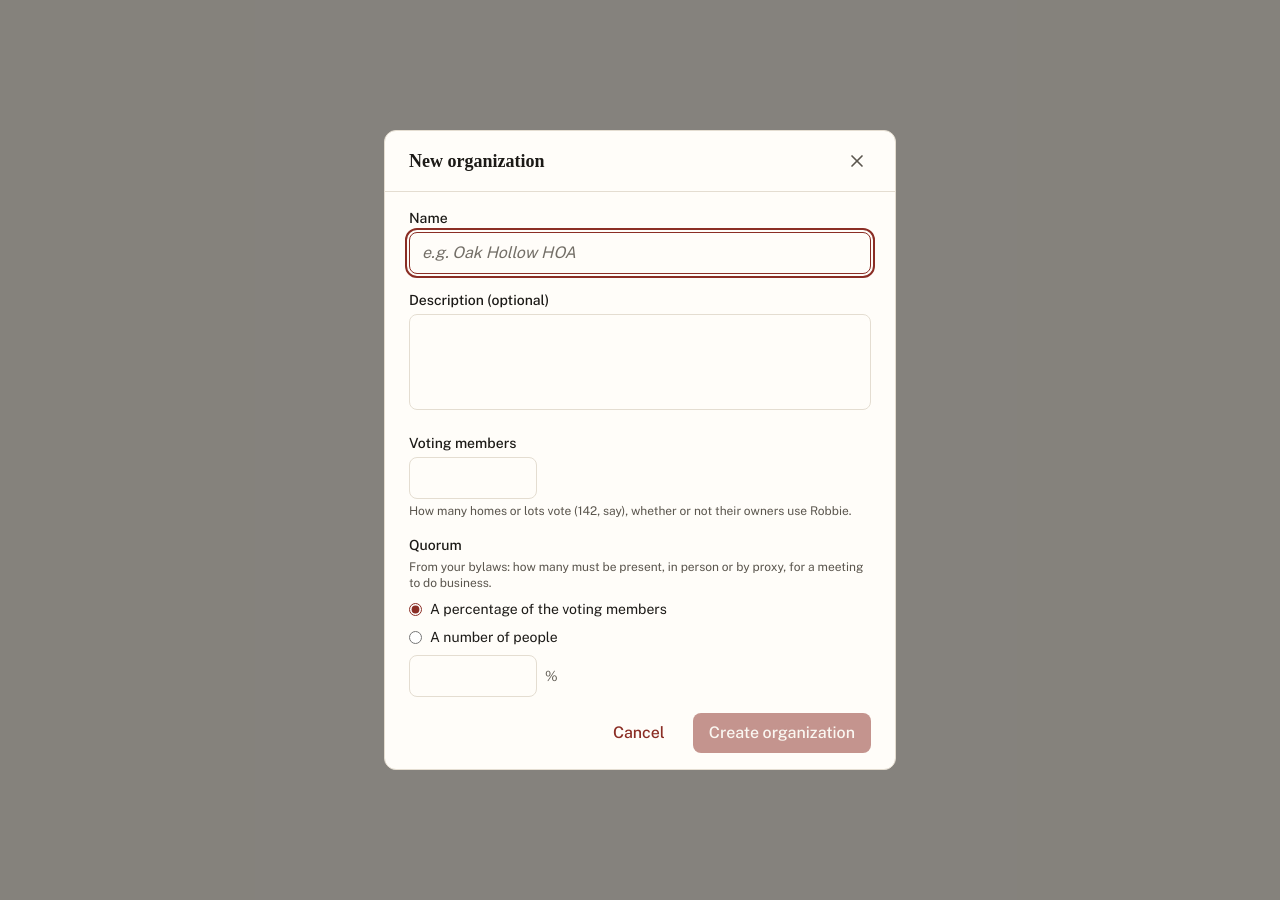
NewOrganizationModal › says in words when the name is already taken
Type "Maple Grove HOA" into the field labelled "Name" at (640, 253), box [409,232,871,274]
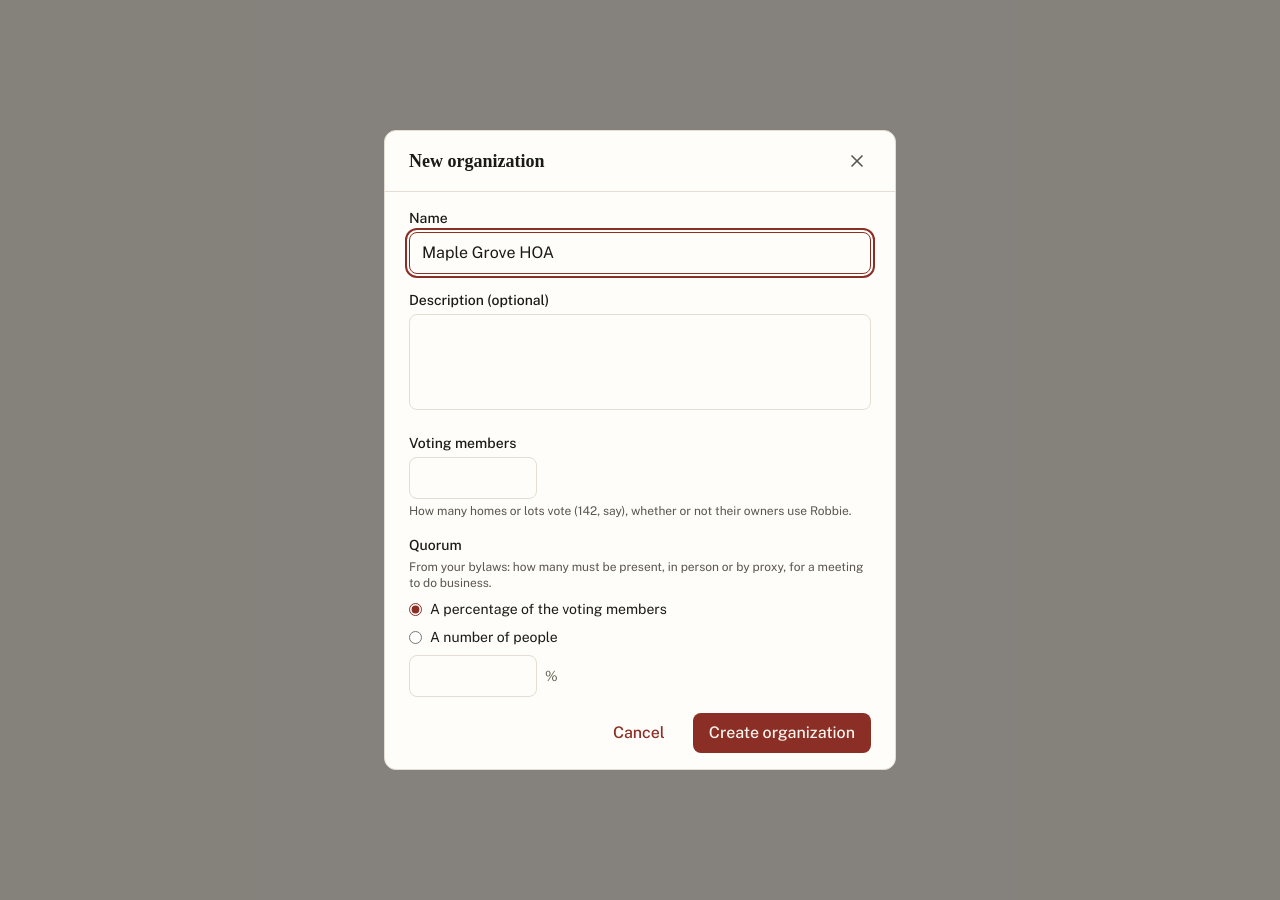
Type "40" into the field labelled "Voting members" at (473, 478), box [409,457,537,499]
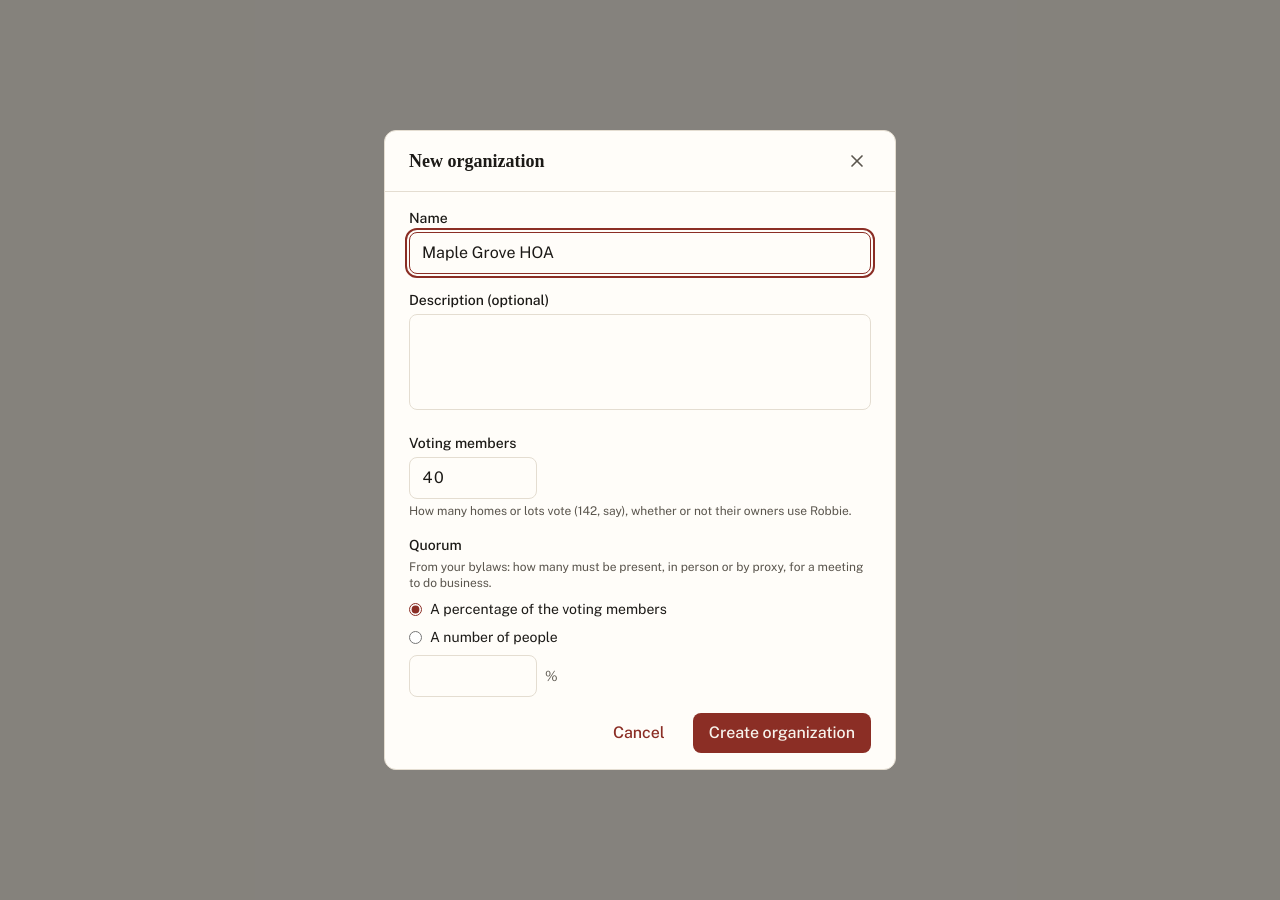
Type "25" into the field named "Quorum percentage" at (473, 676), box [409,655,537,697]
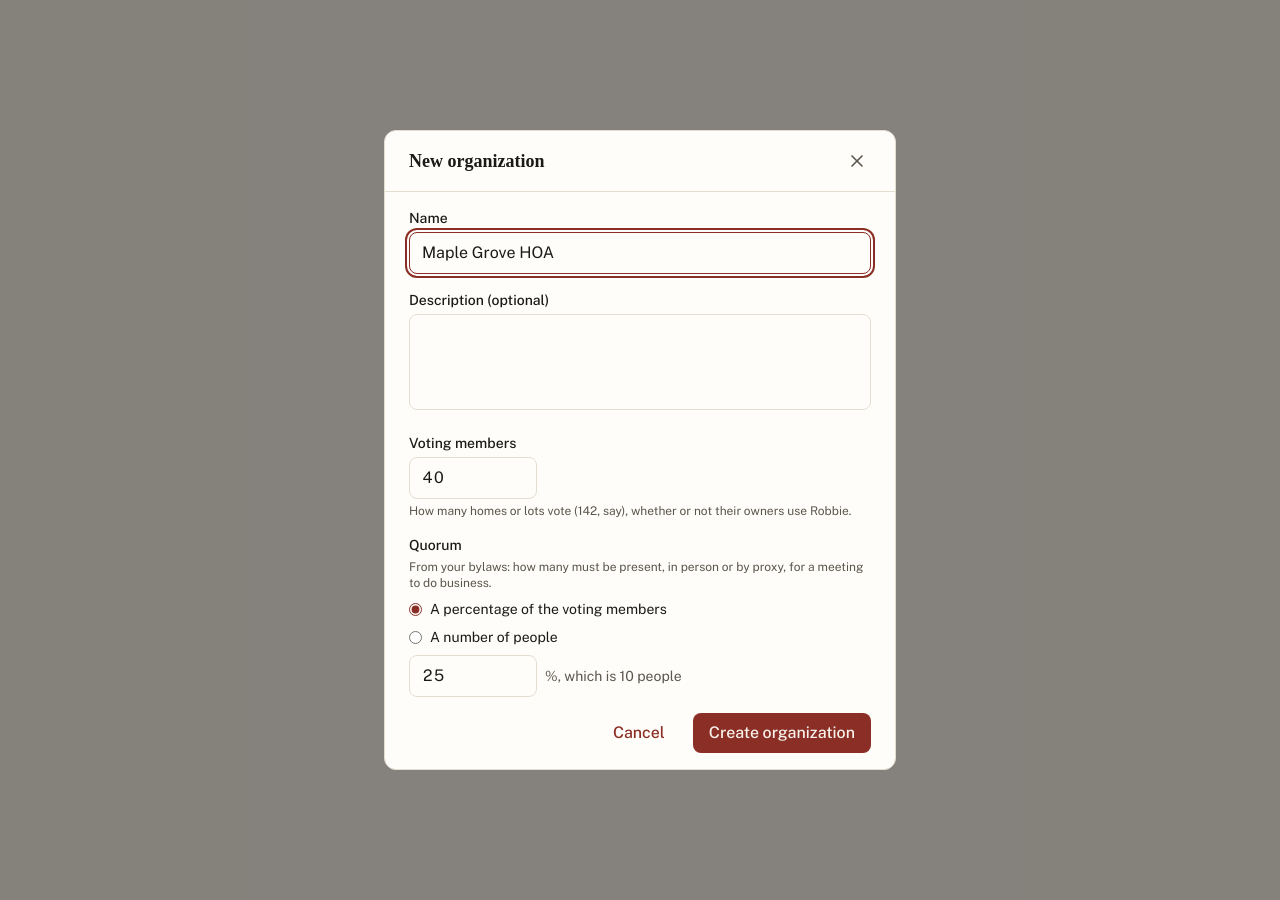
Click the button "Create organization" at (782, 733), box [693,713,871,753]
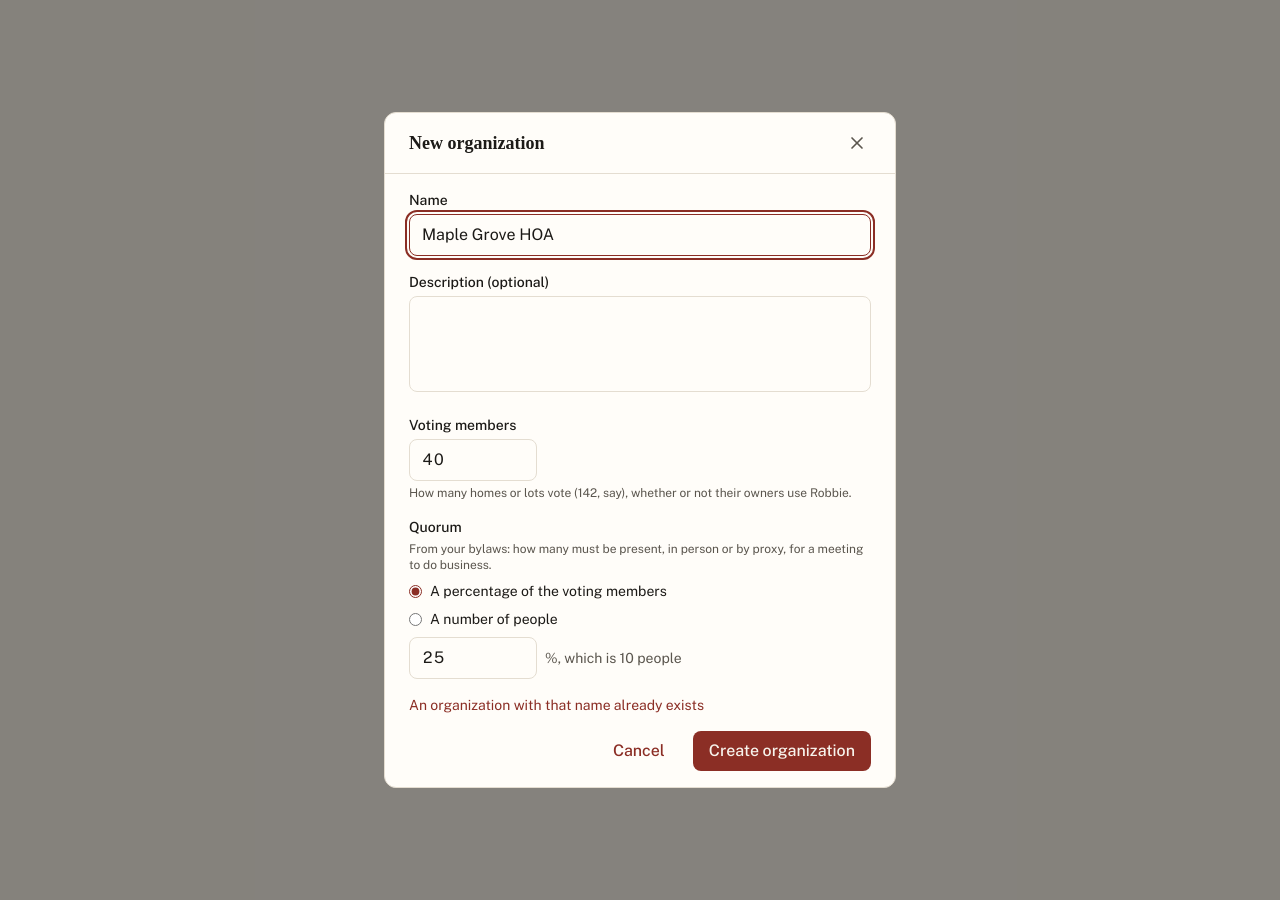
Expected: the text "An organization with that name already exists" is shown, [409,697,704,713]
